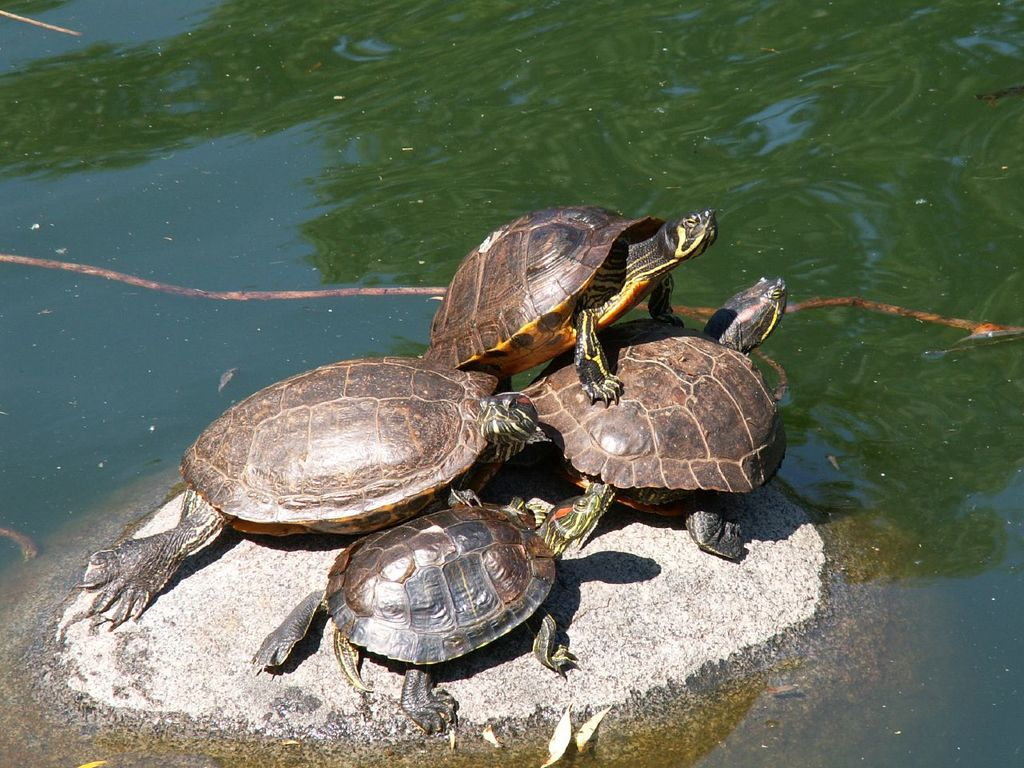Sea turtles: (75, 354, 539, 631), (469, 274, 793, 559), (250, 490, 602, 738), (423, 201, 719, 410)
